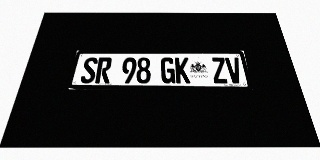8: (136, 57, 151, 83)
9: (121, 57, 137, 83)
G: (161, 57, 175, 83)
K: (175, 57, 190, 83)
R: (95, 57, 112, 83)
S: (80, 57, 98, 83)
V: (225, 57, 243, 83)
Z: (211, 57, 228, 83)
